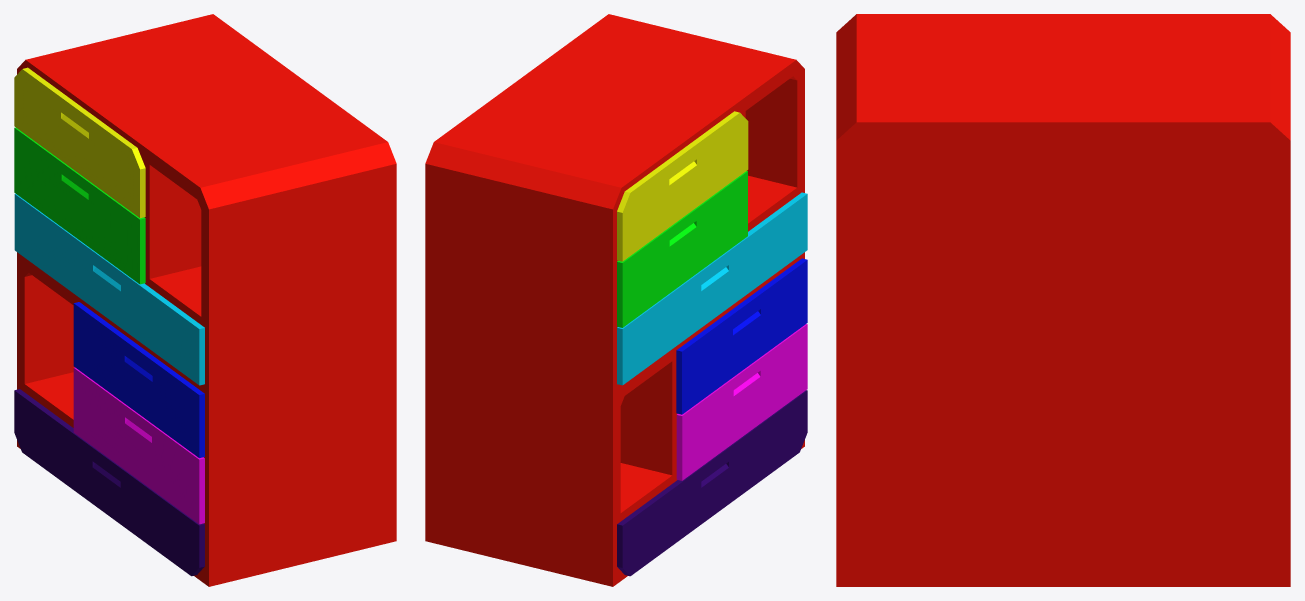
Rendered from Shelving Unit C.fbx.
3 views of the same model, side by side, from view 1: azimuth 30°, elevation 25°; view 2: azimuth 150°, elevation 25°; view 3: azimuth 270°, elevation 25° (orthographic). The views are drawn at different scales.
Parts seen in each view (by area): view 1: ChestSwap, Drawer3_3, Drawer6_6, Drawer4_4, Drawer1_1, Drawer5_5, Drawer2_2; view 2: ChestSwap, Drawer3_3, Drawer6_6, Drawer4_4, Drawer1_1, Drawer5_5, Drawer2_2; view 3: ChestSwap.
Part boxes in pixels (left/top/right/bottom): ChestSwap: left=17, top=14, right=396, bottom=586; Drawer3_3: left=14, top=193, right=204, bottom=385; Drawer6_6: left=14, top=389, right=204, bottom=576; Drawer4_4: left=73, top=302, right=204, bottom=457; Drawer1_1: left=14, top=67, right=145, bottom=218; Drawer5_5: left=73, top=367, right=204, bottom=524; Drawer2_2: left=14, top=127, right=145, bottom=284; ChestSwap: left=425, top=14, right=804, bottom=586; Drawer3_3: left=617, top=192, right=807, bottom=385; Drawer6_6: left=617, top=390, right=807, bottom=576; Drawer4_4: left=676, top=258, right=807, bottom=414; Drawer1_1: left=617, top=111, right=748, bottom=261; Drawer5_5: left=676, top=324, right=807, bottom=480; Drawer2_2: left=617, top=171, right=747, bottom=327; ChestSwap: left=836, top=14, right=1290, bottom=586.
Bounding box in the file's own units: 28.47 × 55.12 × 48.81.
